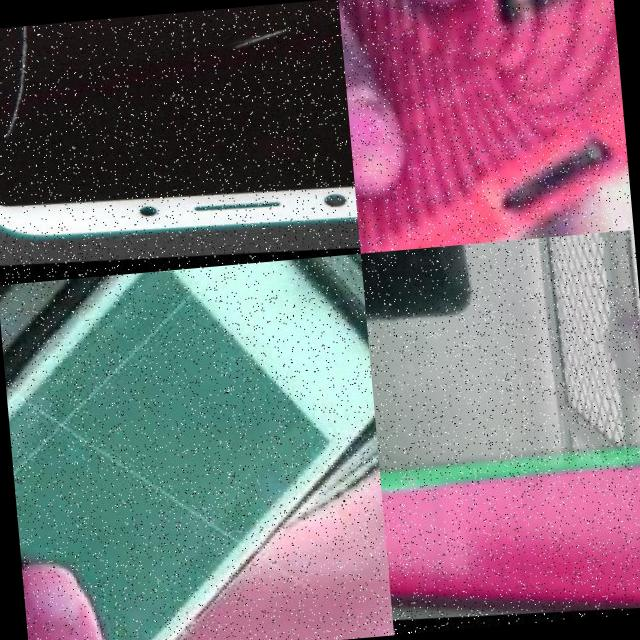scratch: (0, 22, 59, 148), (234, 26, 294, 54)
